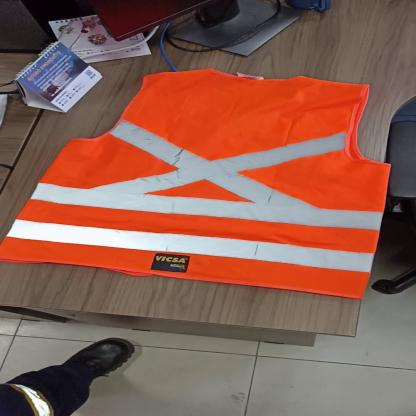colete: (2, 62, 391, 301)
